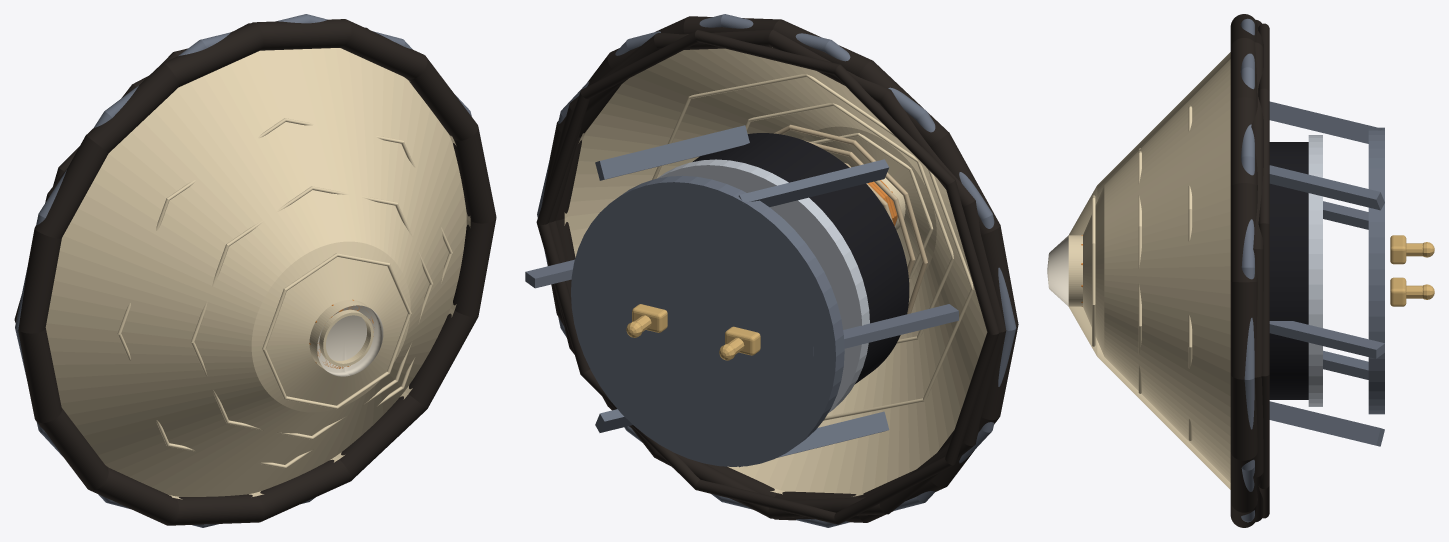
The model's file is loudspeaker.glb.
3 views of the same model, side by side, from view 1: azimuth 30°, elevation 25°; view 2: azimuth 150°, elevation 25°; view 3: azimuth 270°, elevation 25° (orthographic). The views are drawn at different scales.
Visible parts, largest first — view 1: cone, surround, dust_cap, basket, former; view 2: basket, cone, surround, magnet, pole_piece, spider, terminals; view 3: cone, surround, basket, magnet, pole_piece, terminals, dust_cap.
Part boxes in pixels (x1,y1,x2,y2): cone: (45,48,470,499); surround: (14,19,496,525); dust_cap: (317,305,383,376); basket: (15,14,471,527); former: (319,309,373,366); basket: (525,14,1016,527); cone: (564,47,987,496); surround: (536,16,1018,524); magnet: (693,133,909,383); pole_piece: (657,159,869,412); spider: (774,124,927,314); terminals: (626,304,760,360); cone: (1068,52,1230,489); surround: (1230,14,1269,527); basket: (1240,18,1384,522); magnet: (1269,142,1308,399); pole_piece: (1308,135,1322,406); terminals: (1390,235,1434,306); dust_cap: (1047,235,1068,306).
Bounding box in the file's own units: 1.44 × 1.44 × 1.08.
